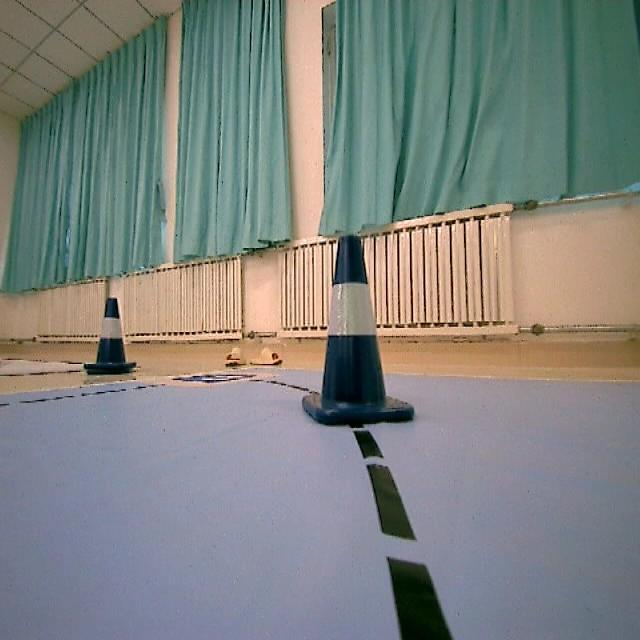obstacle: (300, 236, 424, 446), (84, 296, 134, 390)
